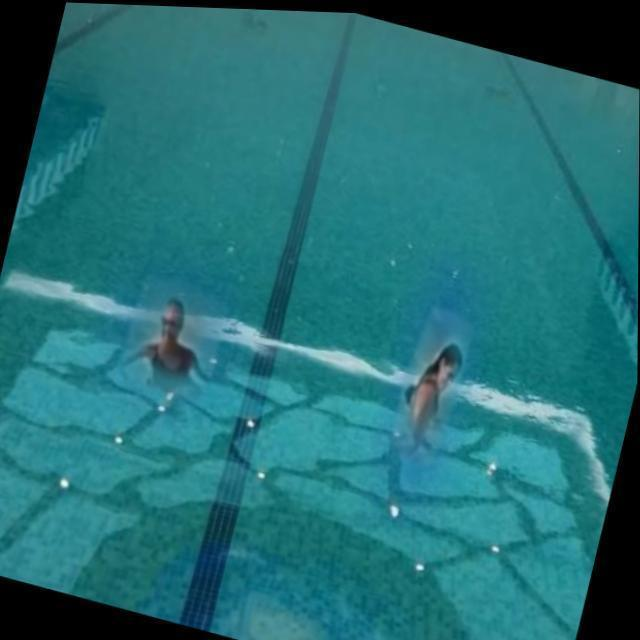swimming: (383, 324, 470, 450), (127, 288, 199, 398)
